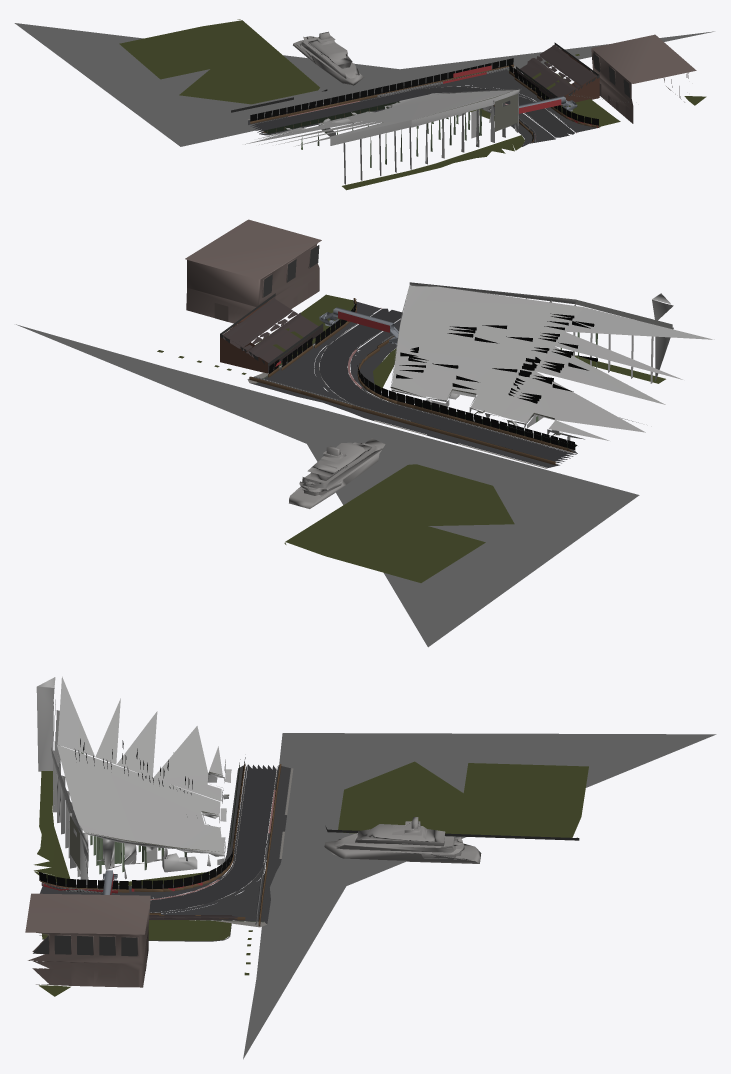
3 renders of one model, top to bottom at view 1: azimuth 30°, elevation 25°; view 2: azimuth 150°, elevation 25°; view 3: azimuth 270°, elevation 25°, orthographic. The views are drawn at different scales.
Parts seen in each view (by area): view 1: merged__lod1; view 2: merged__lod1; view 3: merged__lod1.
Part boxes in pixels (<box>): merged__lod1: <box>14,19,714,190</box>; merged__lod1: <box>16,219,714,647</box>; merged__lod1: <box>25,676,716,1059</box>.
Bounding box in the file's own units: 290 × 39.94 × 263.
